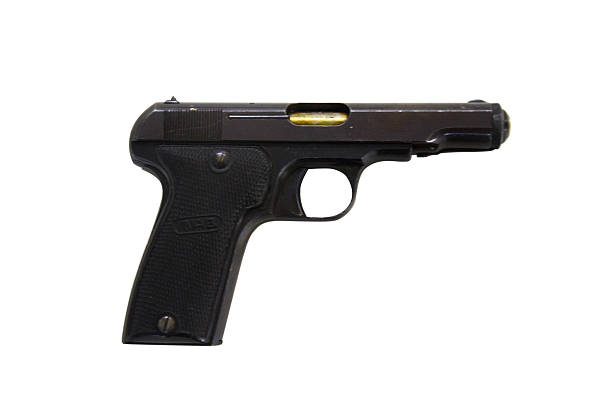pistol: (121, 94, 514, 350)
